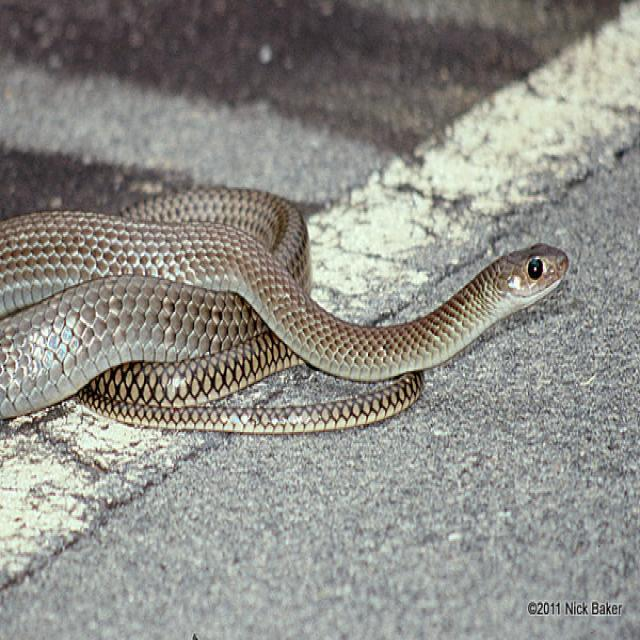Snake: (0, 178, 569, 436)
